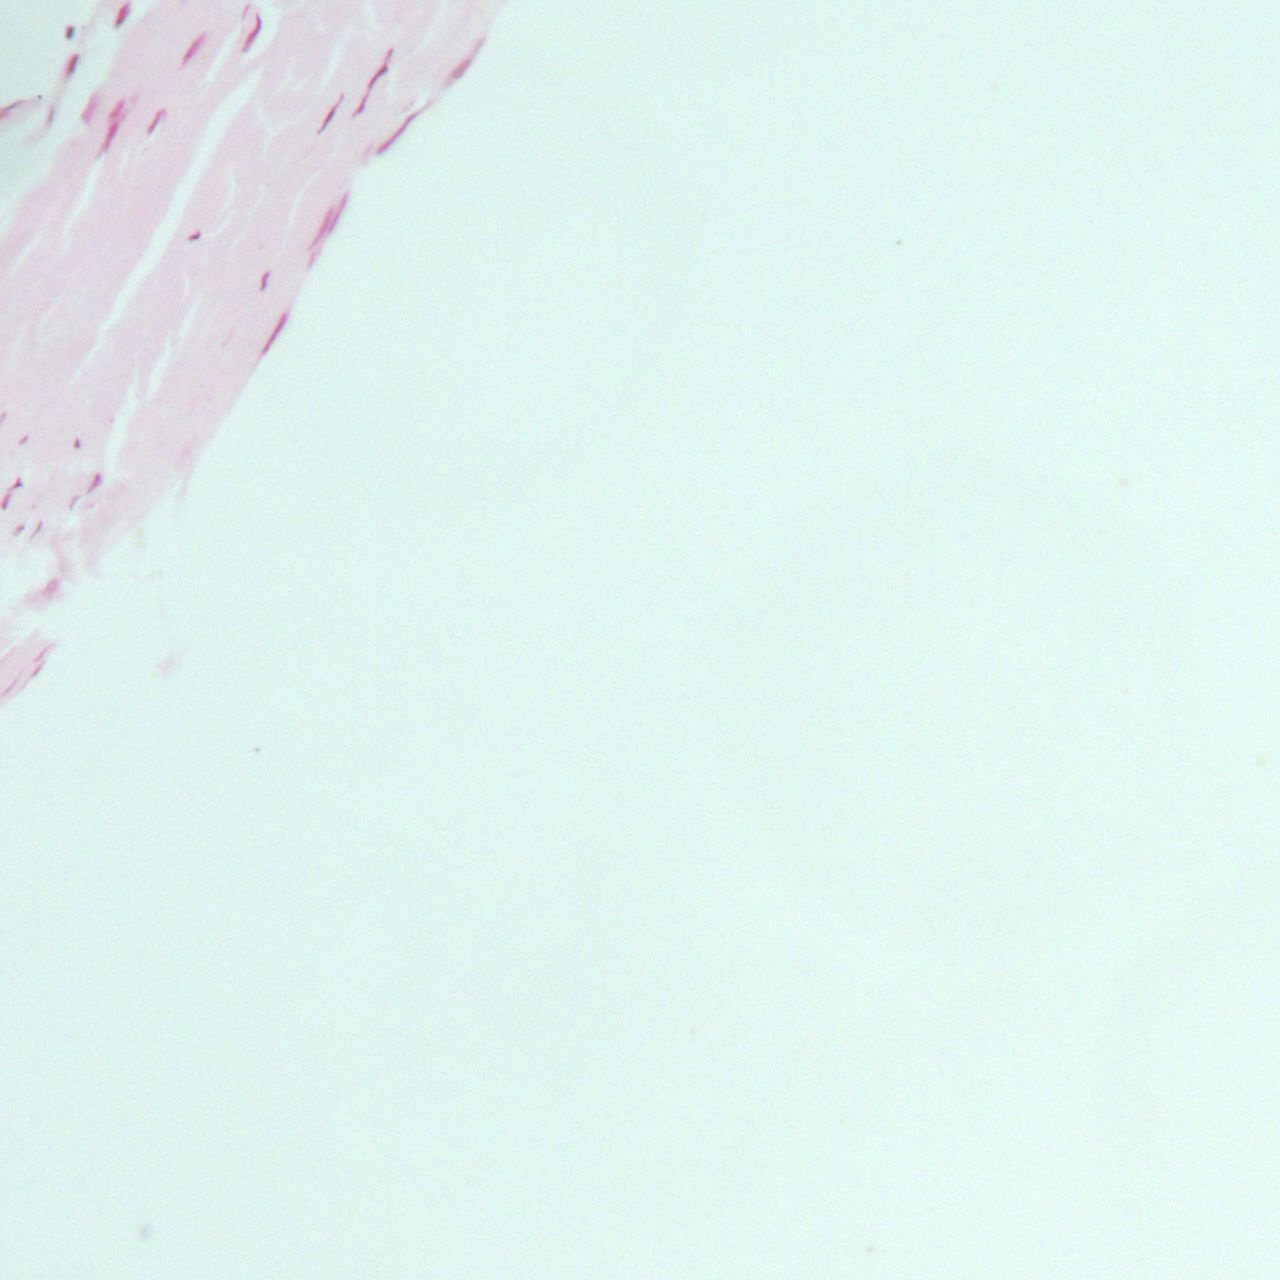dust: (38, 93, 45, 100)
nucleus-AC: (375, 109, 421, 157), (365, 46, 399, 89), (237, 11, 268, 55), (316, 91, 347, 136), (260, 309, 290, 355), (178, 32, 207, 69), (308, 209, 335, 248), (444, 53, 474, 89), (97, 120, 125, 157), (327, 191, 350, 234), (79, 89, 104, 123), (23, 658, 47, 688), (144, 105, 166, 134), (107, 95, 129, 122), (350, 93, 372, 118), (62, 50, 83, 76), (84, 471, 105, 495), (0, 675, 21, 697), (30, 644, 53, 663), (0, 489, 15, 510), (29, 519, 45, 540), (68, 492, 81, 510), (306, 250, 318, 267), (62, 25, 77, 38), (16, 434, 29, 448), (260, 272, 268, 292), (188, 230, 200, 241), (11, 479, 23, 490), (73, 437, 82, 451), (0, 411, 7, 423), (14, 526, 23, 535)
